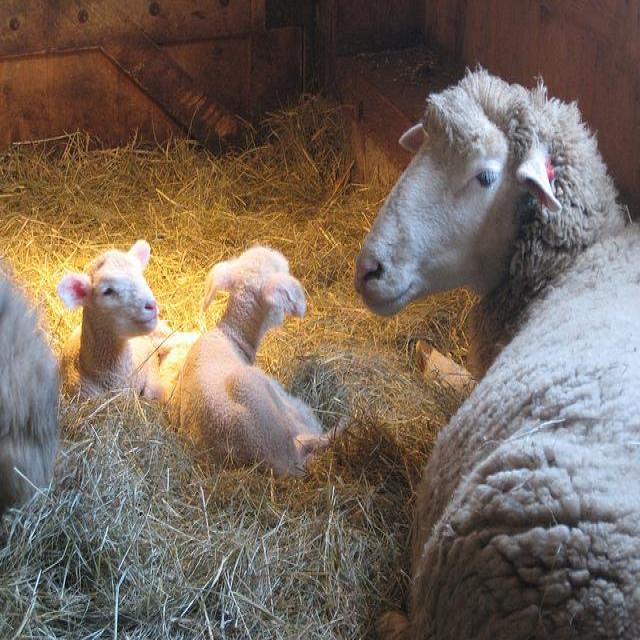Sheep: (355, 71, 639, 638), (162, 245, 355, 480), (63, 241, 202, 399), (0, 278, 66, 506)
